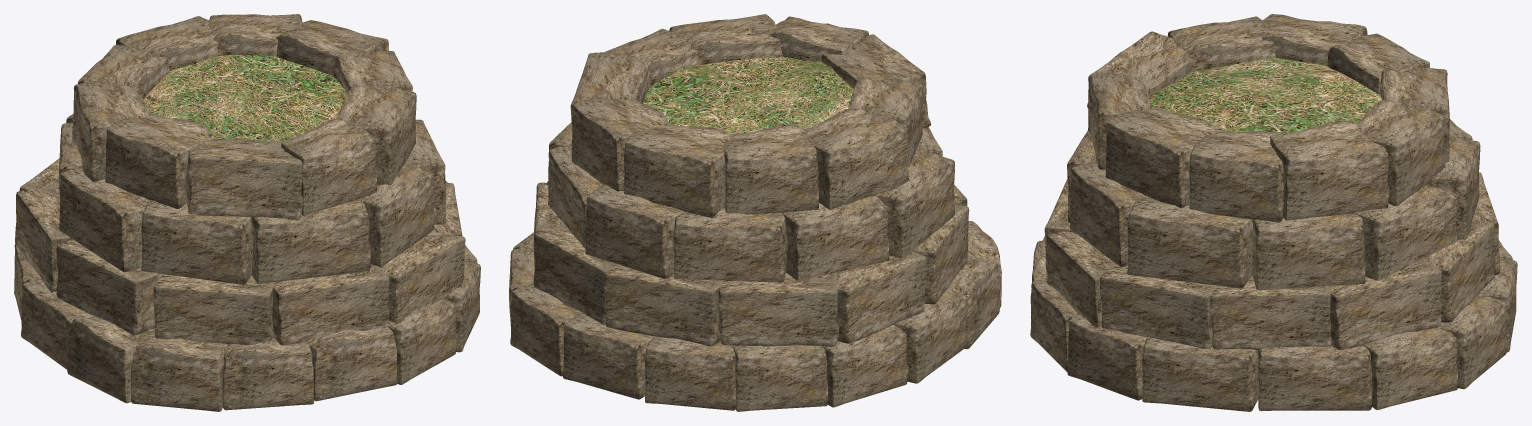
File: Pillar.fbx
The picture shows the model from 3 angles, left to right: view 1: azimuth 30°, elevation 25°; view 2: azimuth 150°, elevation 25°; view 3: azimuth 270°, elevation 25°; orthographic projection. The views are drawn at different scales.
Parts seen in each view (by area): view 1: pCube40; view 2: pCube40; view 3: pCube40.
Part boxes in pixels (<box>): pCube40: <box>14,14,480,411</box>; pCube40: <box>509,14,1001,411</box>; pCube40: <box>1030,14,1517,411</box>.
Bounding box in the file's own units: 5.73 × 3.3 × 6.03.
Materials: 2 (2 with a texture image).
